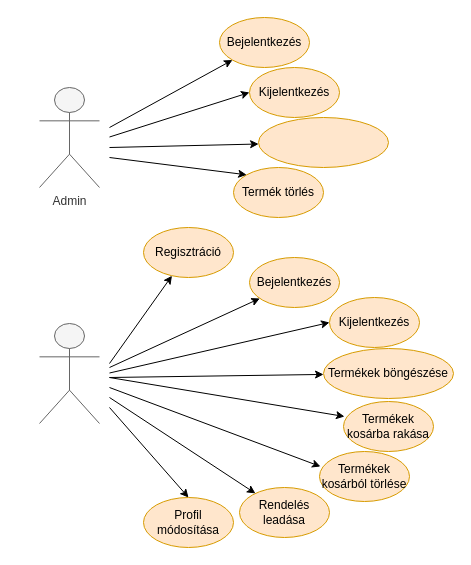
The diagram is 471 pixels wide and 565 high, and some of its shapes have lost their labels. The centre of each missing label's shape, as x and y in pixels:
"Termék felvétel/módosítás" belongs at (323,142).
"Vásárló (Customer)" belongs at (69,373).
